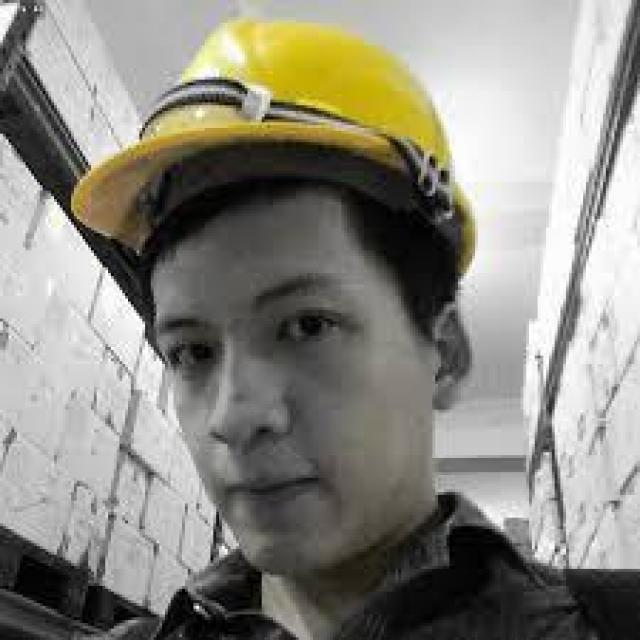hat: (71, 17, 478, 305)
